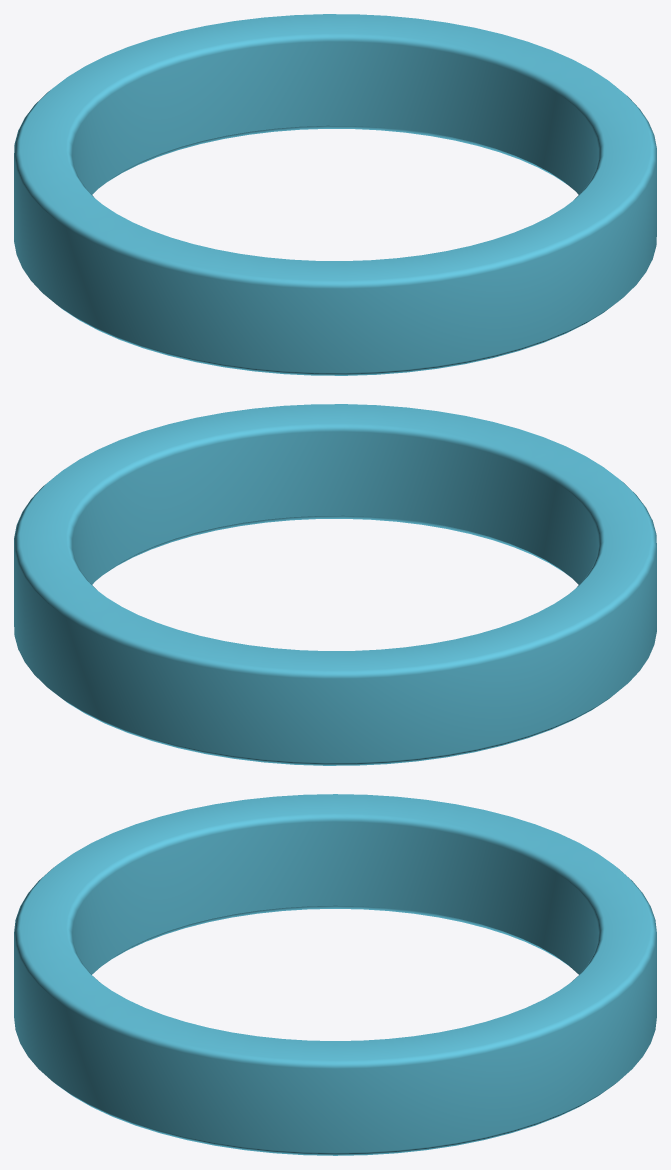
The picture shows the model from 3 angles, top to bottom: view 1: azimuth 30°, elevation 25°; view 2: azimuth 150°, elevation 25°; view 3: azimuth 270°, elevation 25°; orthographic projection.
Visible parts, largest first — view 1: seal_body; view 2: seal_body; view 3: seal_body.
Part boxes in pixels (left/top/right/bottom): seal_body: left=14, top=14, right=656, bottom=375; seal_body: left=14, top=404, right=656, bottom=765; seal_body: left=14, top=794, right=656, bottom=1155.
Size of the model in its own units: 0.055 by 0.009 by 0.055.
